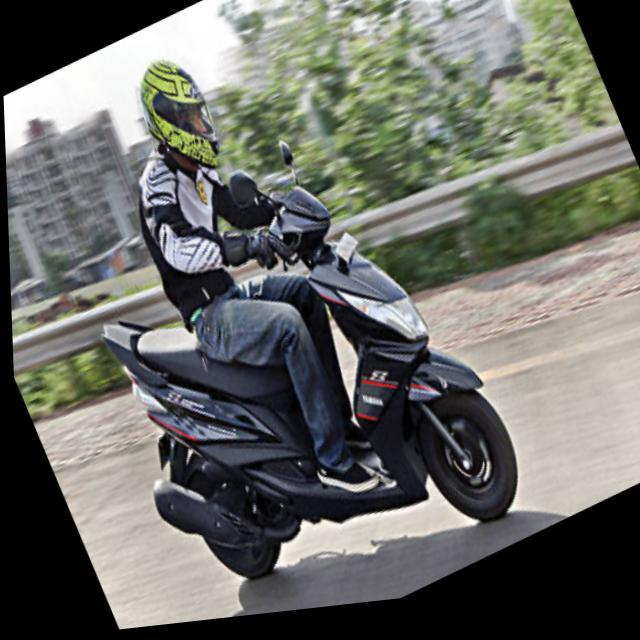Helmet: (130, 50, 228, 177)
